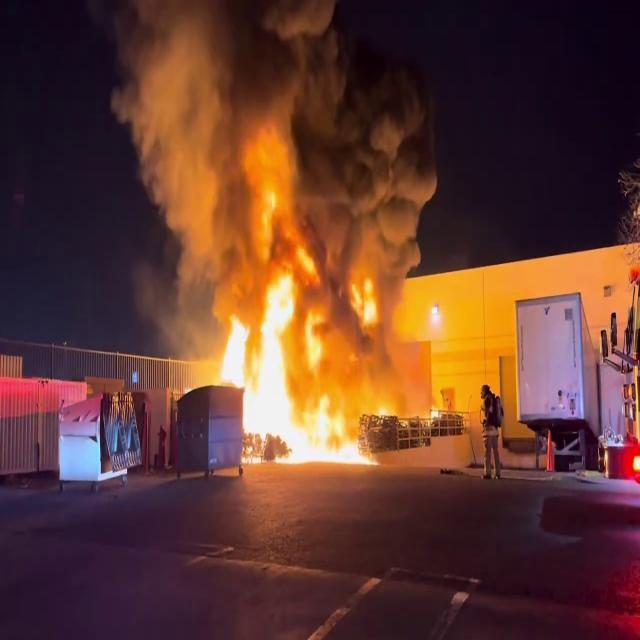Fire: (212, 161, 376, 467)
Smoke: (112, 1, 480, 248)
